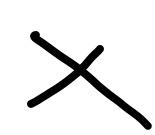mult: (28, 31, 151, 129)
